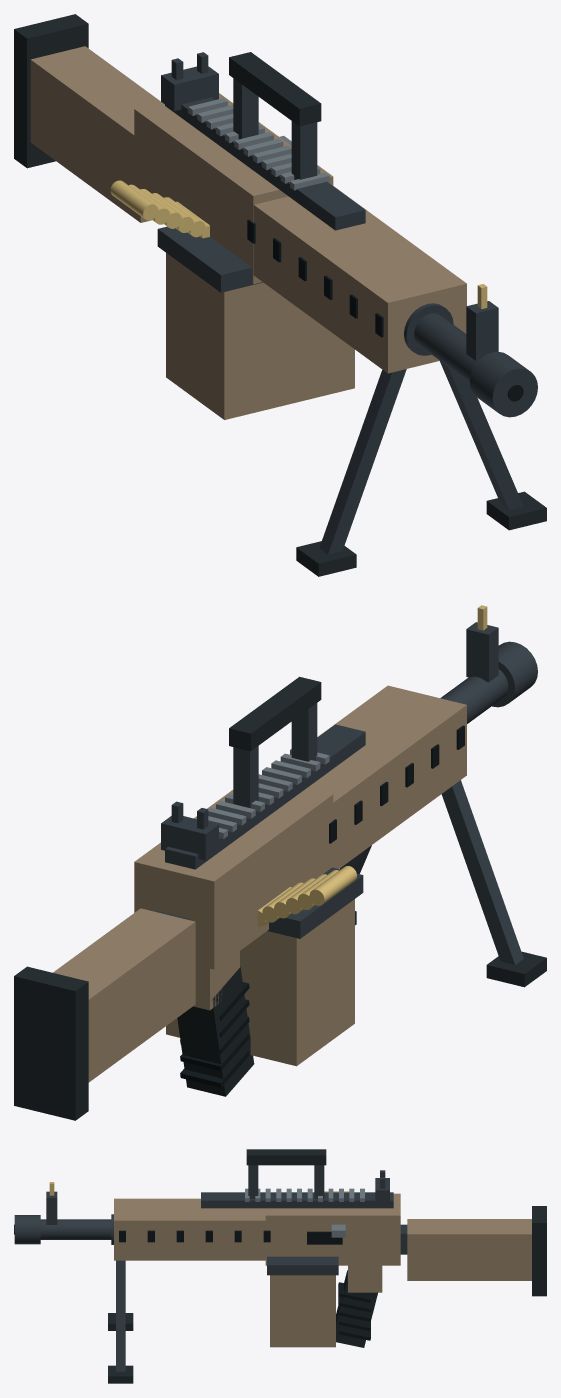
The model's file is lmg_02_bastion.glb.
3 renders of one model, top to bottom at view 1: azimuth 30°, elevation 25°; view 2: azimuth 150°, elevation 25°; view 3: azimuth 270°, elevation 25°, orthographic. The views are drawn at different scales.
Visible parts, largest first — view 1: handguard, ammo_box, stock_body, receiver, buttpad, bipod_leg_-1, upper_rail, ammo_lid, carry_handle_top, bipod_leg_1, muzzle_device, barrel (+8 smaller); view 2: receiver, handguard, stock_body, ammo_box, buttpad, grip, bipod_leg_-1, upper_rail, carry_handle_top, ammo_lid, rear_sight_base, muzzle_device (+8 smaller); view 3: handguard, stock_body, receiver, ammo_box, upper_rail, grip, barrel, ammo_lid, carry_handle_top, buttpad, bipod_leg_1, grip_tang (+8 smaller).
Part boxes in pixels (bbox=[...]): handguard: bbox=[253, 186, 466, 373]; ammo_box: bbox=[166, 253, 354, 419]; stock_body: bbox=[30, 46, 161, 222]; receiver: bbox=[134, 93, 333, 284]; buttpad: bbox=[14, 14, 88, 168]; bipod_leg_-1: bbox=[319, 369, 406, 554]; upper_rail: bbox=[165, 97, 365, 230]; ammo_lid: bbox=[157, 226, 262, 292]; carry_handle_top: bbox=[229, 52, 321, 126]; bipod_leg_1: bbox=[440, 361, 523, 510]; muzzle_device: bbox=[469, 351, 537, 417]; barrel: bbox=[414, 313, 478, 381]; receiver: bbox=[134, 788, 333, 969]; handguard: bbox=[307, 685, 466, 868]; stock_body: bbox=[53, 908, 195, 1082]; ammo_box: bbox=[166, 899, 354, 1066]; buttpad: bbox=[14, 966, 88, 1120]; grip: bbox=[177, 966, 254, 1096]; bipod_leg_-1: bbox=[441, 780, 523, 964]; upper_rail: bbox=[165, 724, 365, 869]; carry_handle_top: bbox=[229, 676, 321, 751]; ammo_lid: bbox=[267, 867, 363, 938]; rear_sight_base: bbox=[161, 816, 218, 860]; muzzle_device: bbox=[492, 641, 537, 707]; handguard: bbox=[114, 1198, 265, 1260]; stock_body: bbox=[407, 1219, 531, 1280]; receiver: bbox=[265, 1193, 400, 1265]; ammo_box: bbox=[270, 1275, 335, 1347]; upper_rail: bbox=[201, 1192, 393, 1208]; grip: bbox=[336, 1270, 377, 1347]; barrel: bbox=[40, 1219, 111, 1239]; ammo_lid: bbox=[267, 1256, 338, 1275]; carry_handle_top: bbox=[246, 1149, 326, 1165]; buttpad: bbox=[532, 1206, 546, 1296]; bipod_leg_1: bbox=[116, 1260, 125, 1371]; grip_tang: bbox=[348, 1265, 382, 1292].
Size of the model in its own units: 0.271 by 0.4005 by 0.9685.
